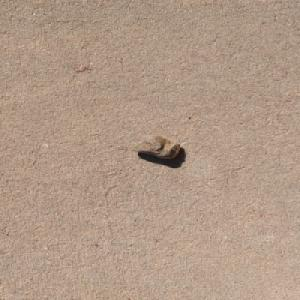Rock: (130, 134, 181, 159)
